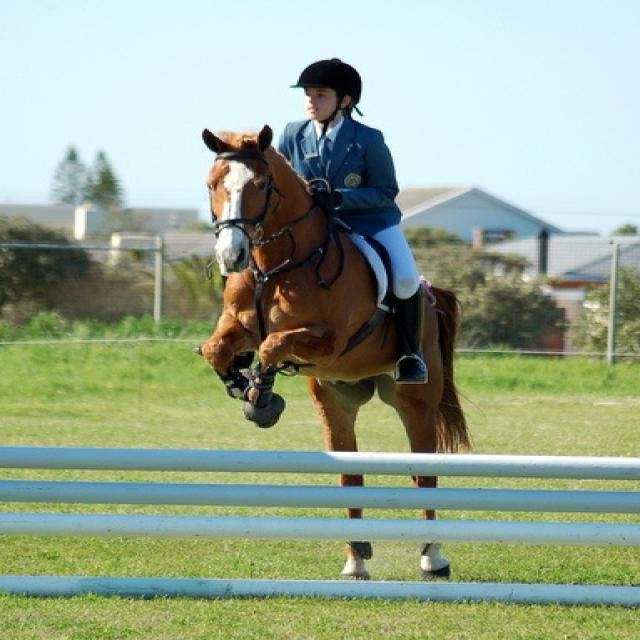horse: (202, 124, 473, 581)
